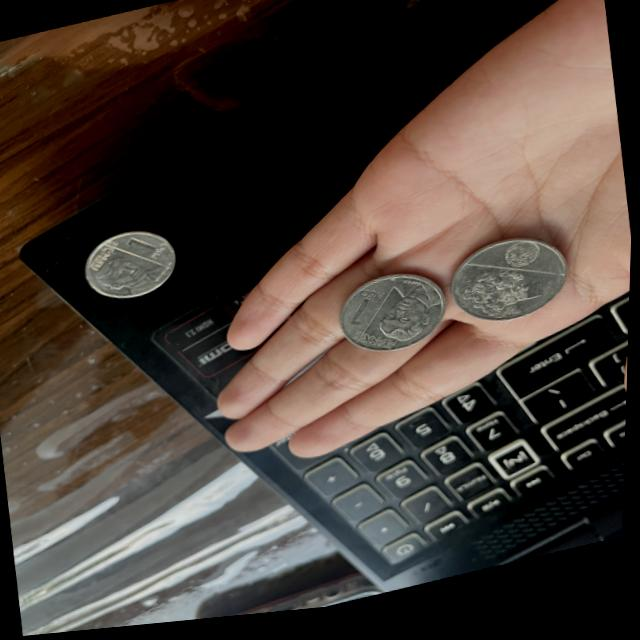1_New_Back: (458, 265, 548, 339)
1_New_Front: (341, 285, 397, 343), (121, 225, 176, 271)
